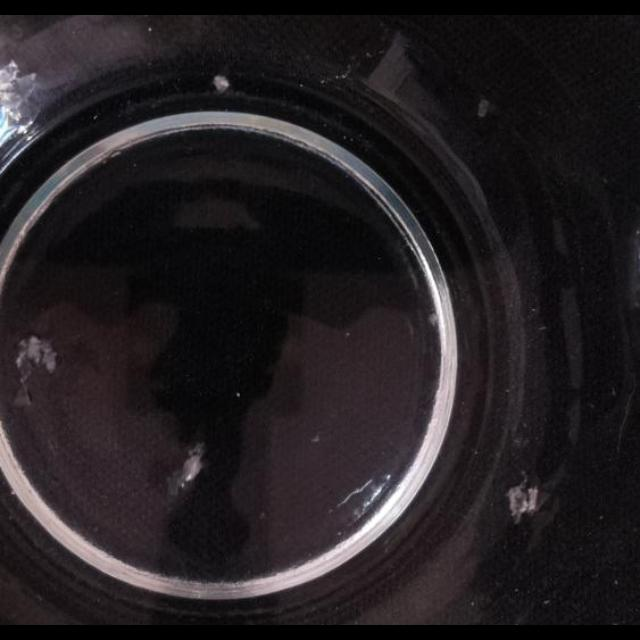Fibre: (1, 58, 43, 144), (11, 335, 59, 407), (164, 440, 206, 498), (506, 475, 542, 525), (476, 99, 489, 117)
microbeads: (213, 74, 231, 92), (428, 310, 438, 326), (310, 433, 320, 443)
